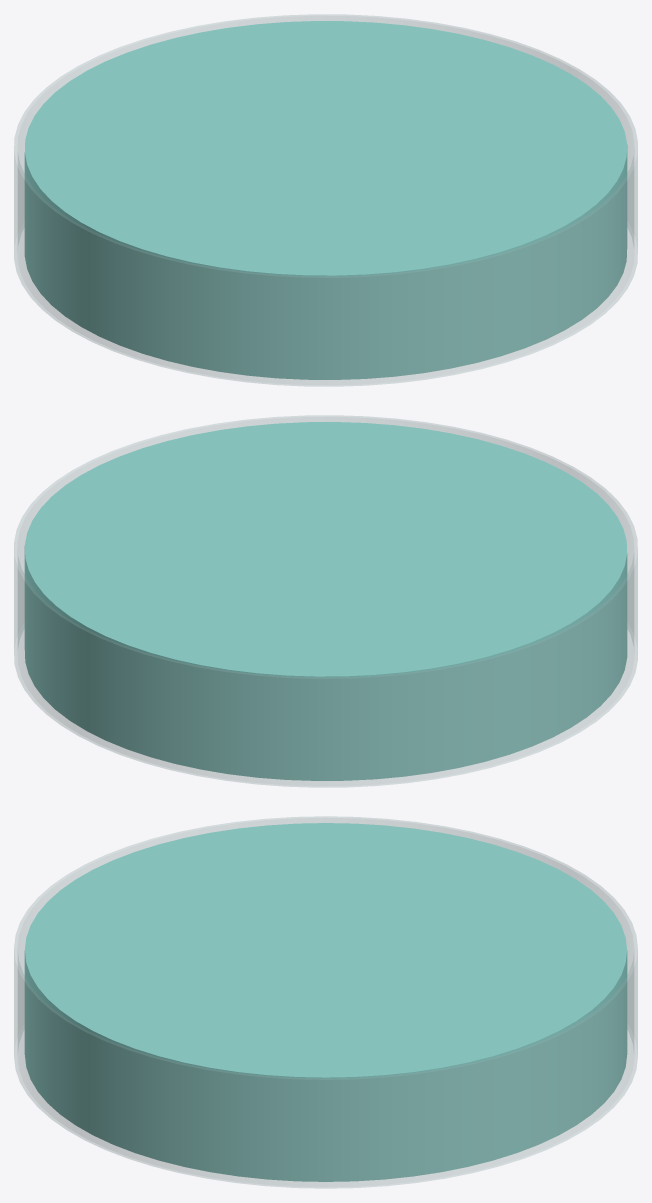
Rendered from Node_Tube_Pillar_Unit_1m.glb.
3 renders of one model, top to bottom at view 1: azimuth 30°, elevation 25°; view 2: azimuth 150°, elevation 25°; view 3: azimuth 270°, elevation 25°, orthographic.
Parts seen in each view (by area): view 1: Node_Tube_Pillar_Unit_1m_Goo, Node_Tube_Pillar_Unit_1m; view 2: Node_Tube_Pillar_Unit_1m_Goo, Node_Tube_Pillar_Unit_1m; view 3: Node_Tube_Pillar_Unit_1m_Goo, Node_Tube_Pillar_Unit_1m.
Part boxes in pixels (x1,y1,x2,y2): Node_Tube_Pillar_Unit_1m_Goo: [24, 21, 627, 379]; Node_Tube_Pillar_Unit_1m: [14, 14, 637, 386]; Node_Tube_Pillar_Unit_1m_Goo: [24, 422, 627, 780]; Node_Tube_Pillar_Unit_1m: [14, 415, 637, 787]; Node_Tube_Pillar_Unit_1m_Goo: [24, 823, 627, 1181]; Node_Tube_Pillar_Unit_1m: [14, 816, 637, 1188].
Bounding box in the file's own units: 5.2 × 1 × 5.2.
